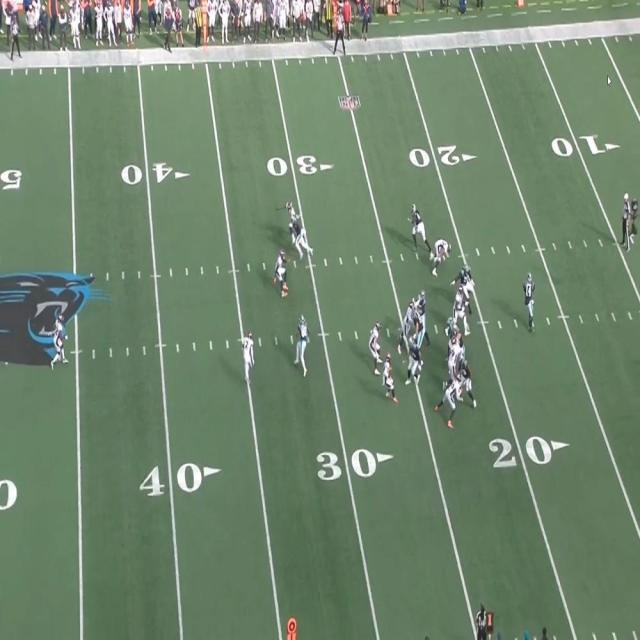db: (54, 310, 69, 367), (244, 332, 258, 387), (276, 248, 288, 294), (287, 199, 295, 245)
lb: (382, 355, 393, 401), (371, 326, 381, 374)
qb: (524, 275, 534, 327)
skill: (298, 314, 312, 371), (410, 205, 428, 249), (290, 216, 308, 257)
